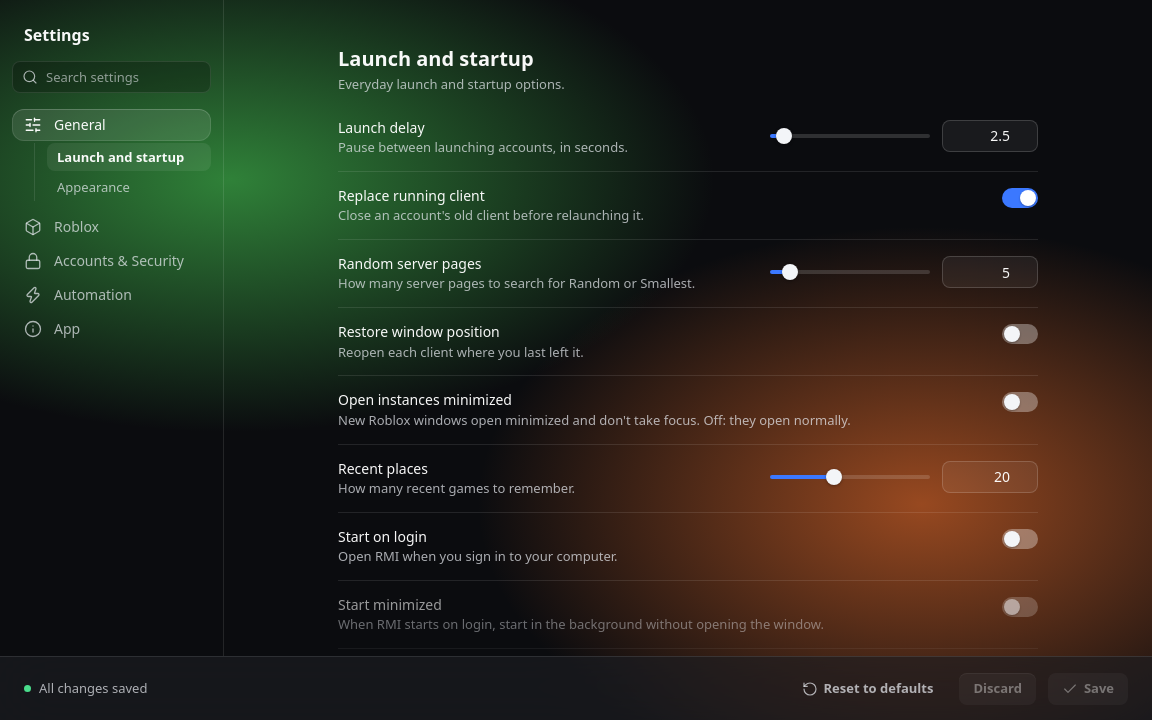
Test: Discard drops the draft; flipping back clears the count
Click the switch named "Replace running client" in the row of "Replace running client".
click(1020, 198)  # box [1002,188,1038,208]
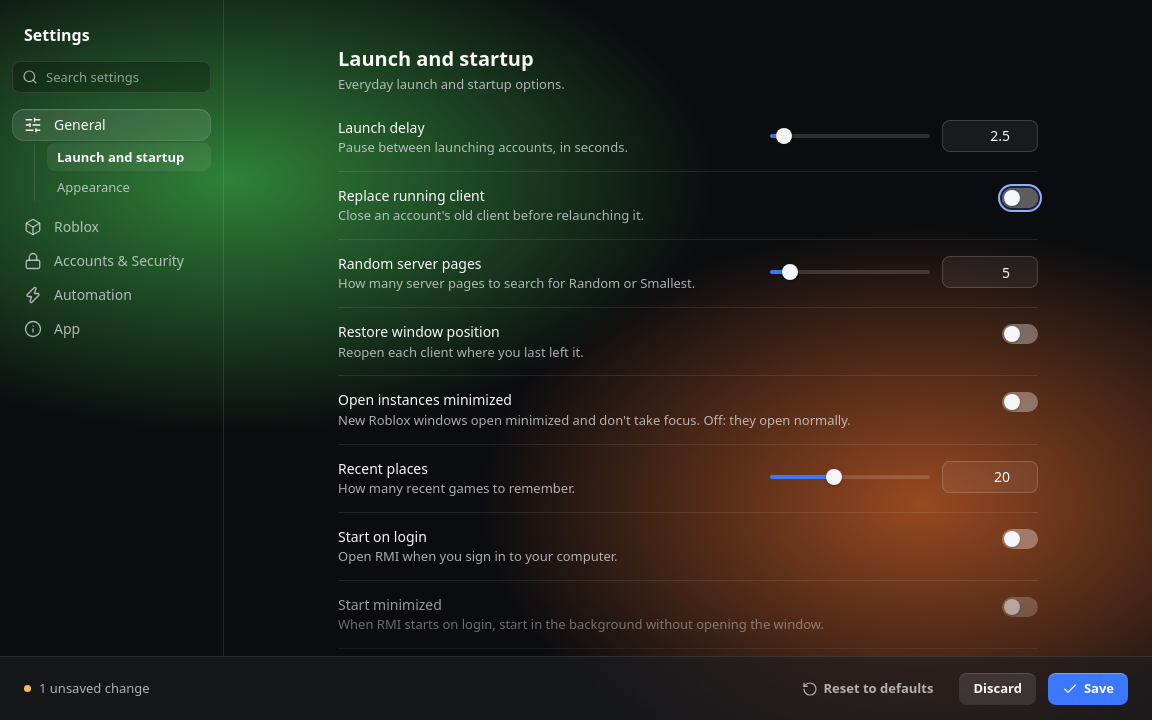
Click the button "Discard".
click(998, 688)  # box [959,672,1036,704]
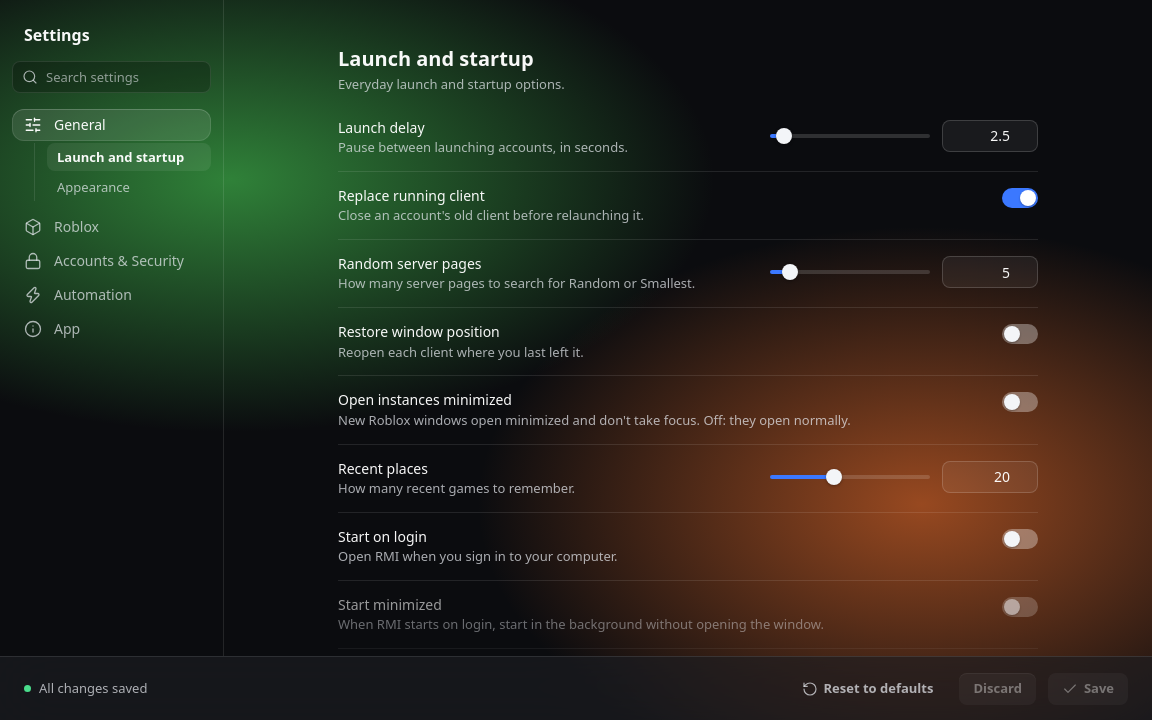
expect the switch named "Replace running client" in the row of "Replace running client" is checked: met
expect the text "All changes saved" is shown: met, box [24,679,147,698]
Click the switch named "Replace running client" in the row of "Replace running client".
click(1020, 198)  # box [1002,188,1038,208]
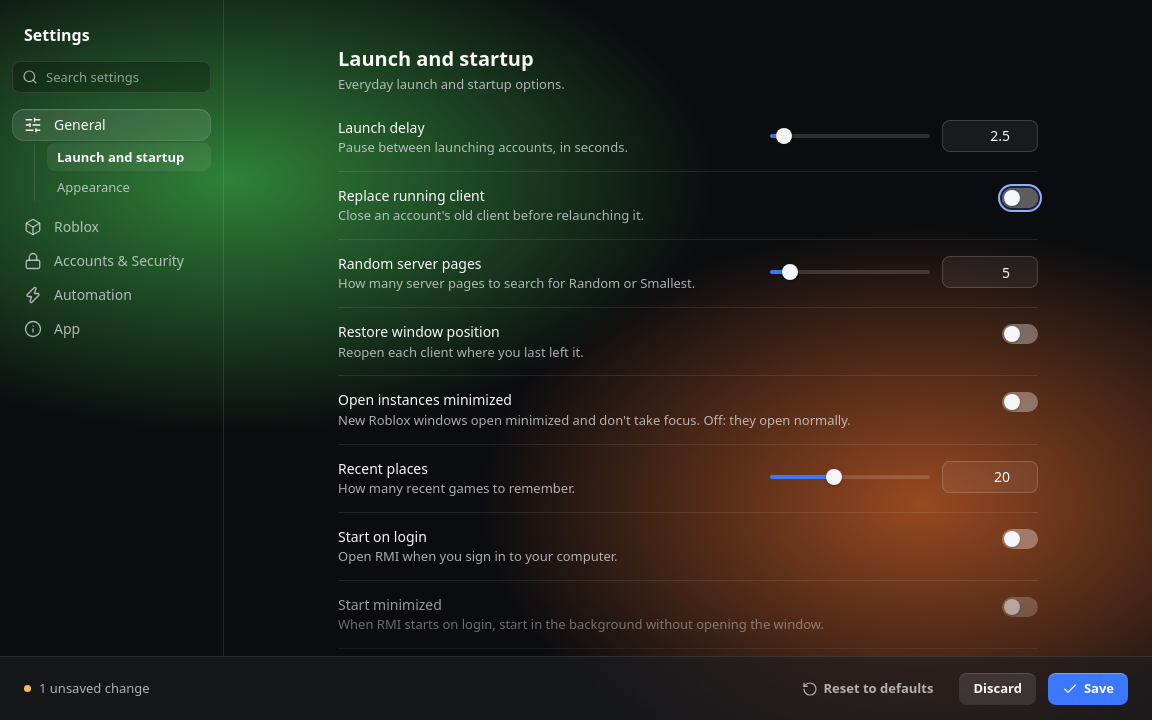
Click the switch named "Replace running client" in the row of "Replace running client".
click(1020, 198)  # box [1002,188,1038,208]
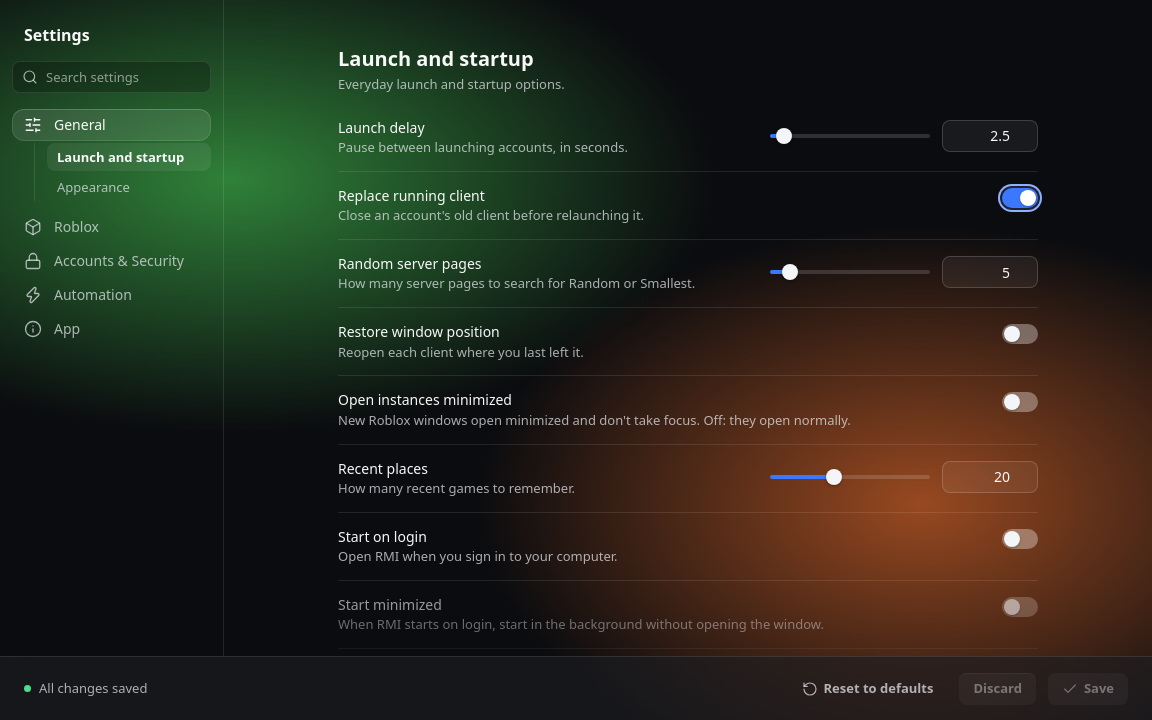
expect the text "All changes saved" is shown: met, box [24,679,147,698]
